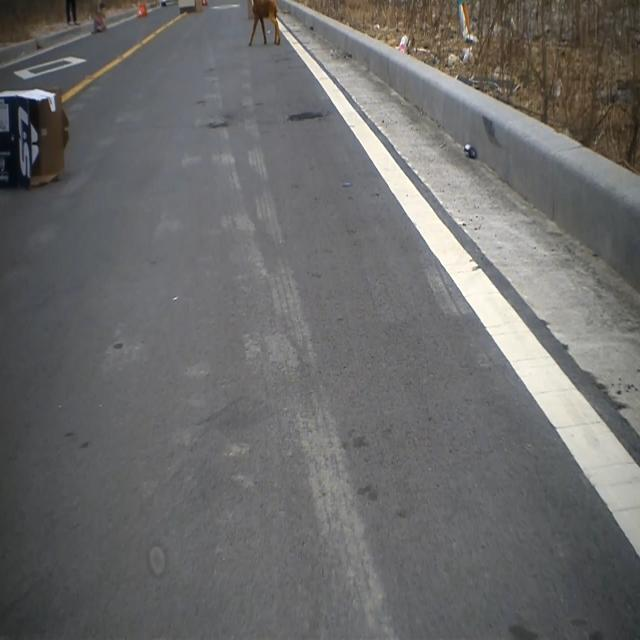Pothole: (282, 100, 333, 135), (193, 106, 237, 140)
